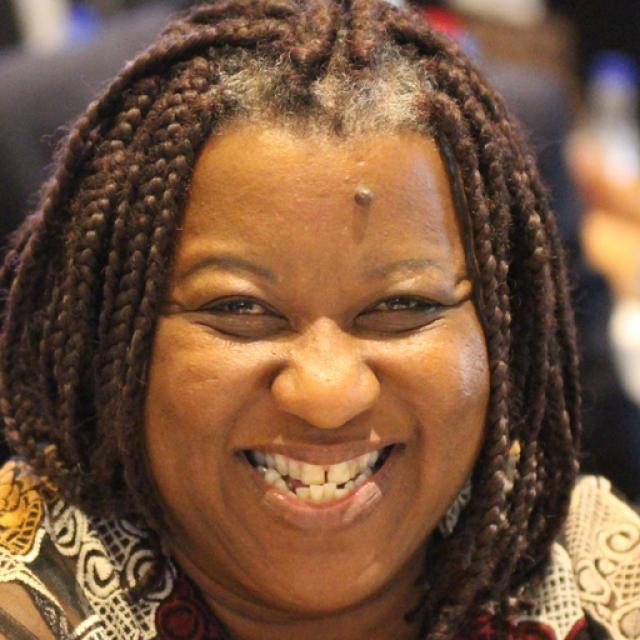happy: (145, 104, 491, 616)
